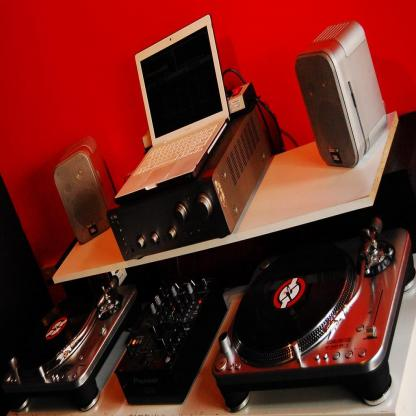board: (110, 24, 246, 189)
